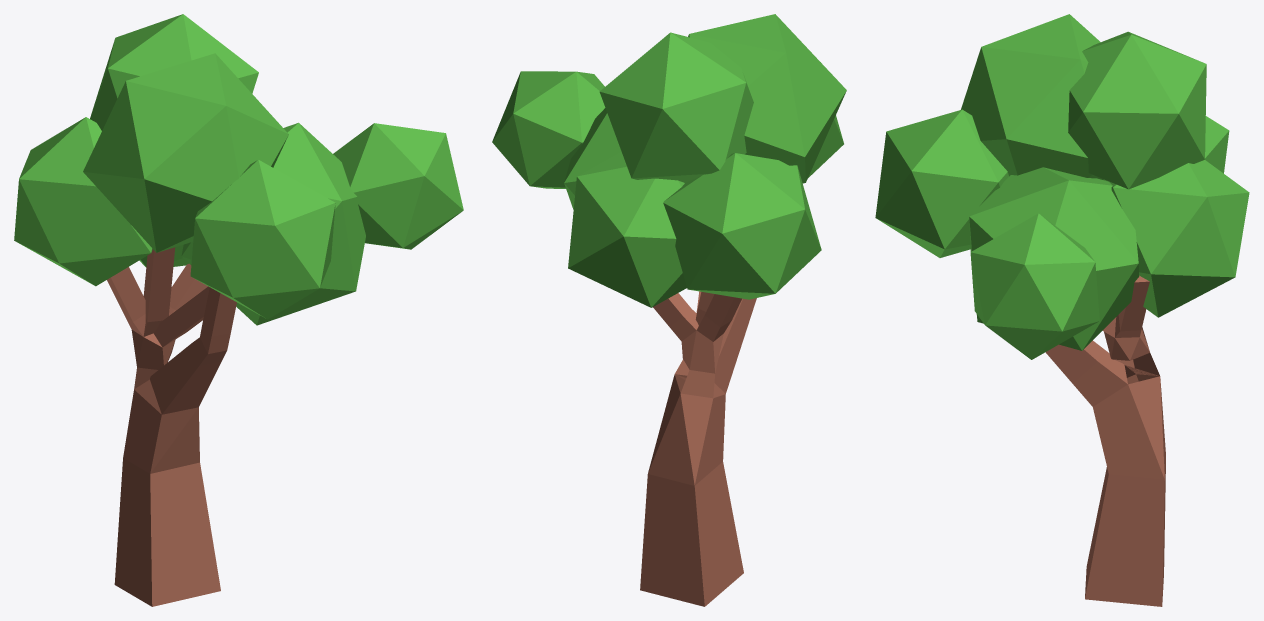
The model's file is arbol2.glb.
The picture shows the model from 3 angles, left to right: view 1: azimuth 30°, elevation 25°; view 2: azimuth 150°, elevation 25°; view 3: azimuth 270°, elevation 25°; orthographic projection. The views are drawn at different scales.
Visible parts, largest first — view 1: Cube.002, Cube.003; view 2: Cube.002, Cube.003; view 3: Cube.002, Cube.003.
Part boxes in pixels (x1,y1,x2,y2): Cube.002: (14, 14, 463, 325); Cube.003: (107, 247, 236, 606); Cube.002: (492, 14, 846, 307); Cube.003: (640, 291, 756, 606); Cube.002: (875, 14, 1249, 359); Cube.003: (1045, 275, 1165, 606).
Size of the model in its own units: 4.43 by 6.5 by 3.9.
